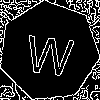W: (23, 26, 76, 77)
